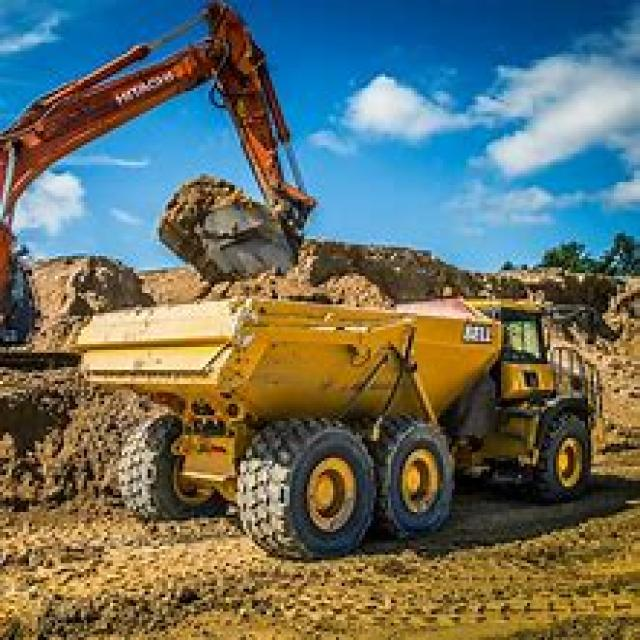dump_truck: (87, 288, 625, 558)
